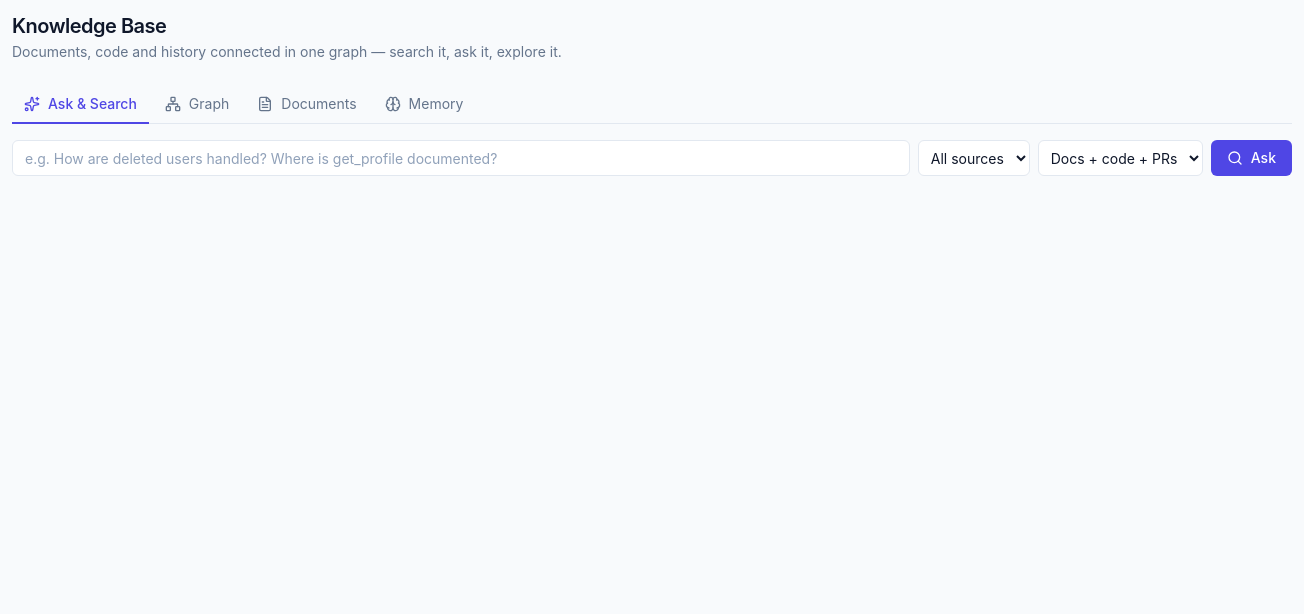
Scenario: Knowledge page › suggests similar earlier questions before the model's answer
Type "what happens to deleted users" into the field named "Question" at (461,158), box [12,140,910,176]
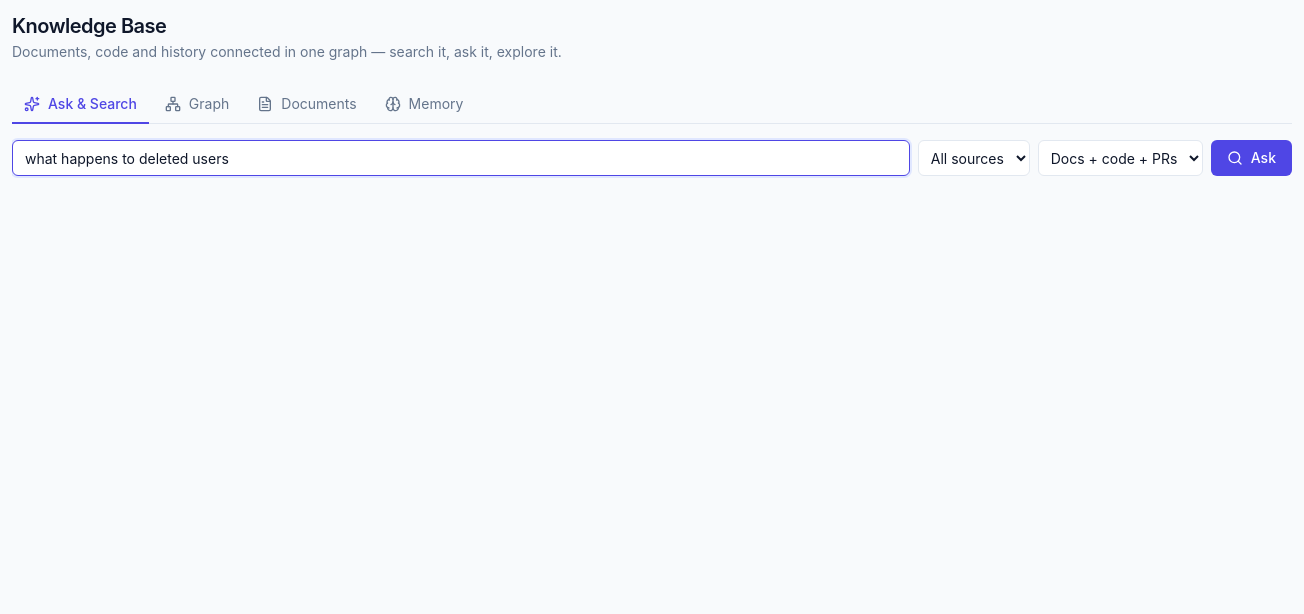
Click the button "Ask" at (1251,158), box [1211,140,1292,176]
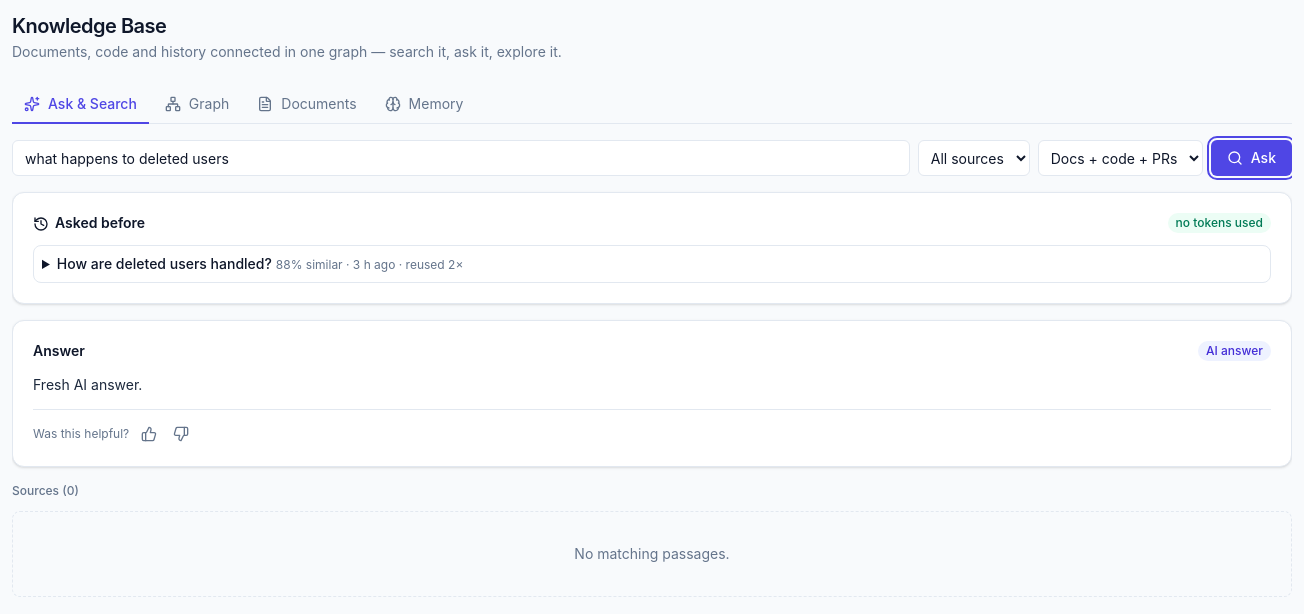
Check: the element labelled "Asked before" shows "How are deleted users handled?", box [57,255,272,272]
Check: the element labelled "Asked before" shows "88% similar", box [12,192,1292,304]
Check: the text "Fresh AI answer." is shown, box [33,376,142,393]
